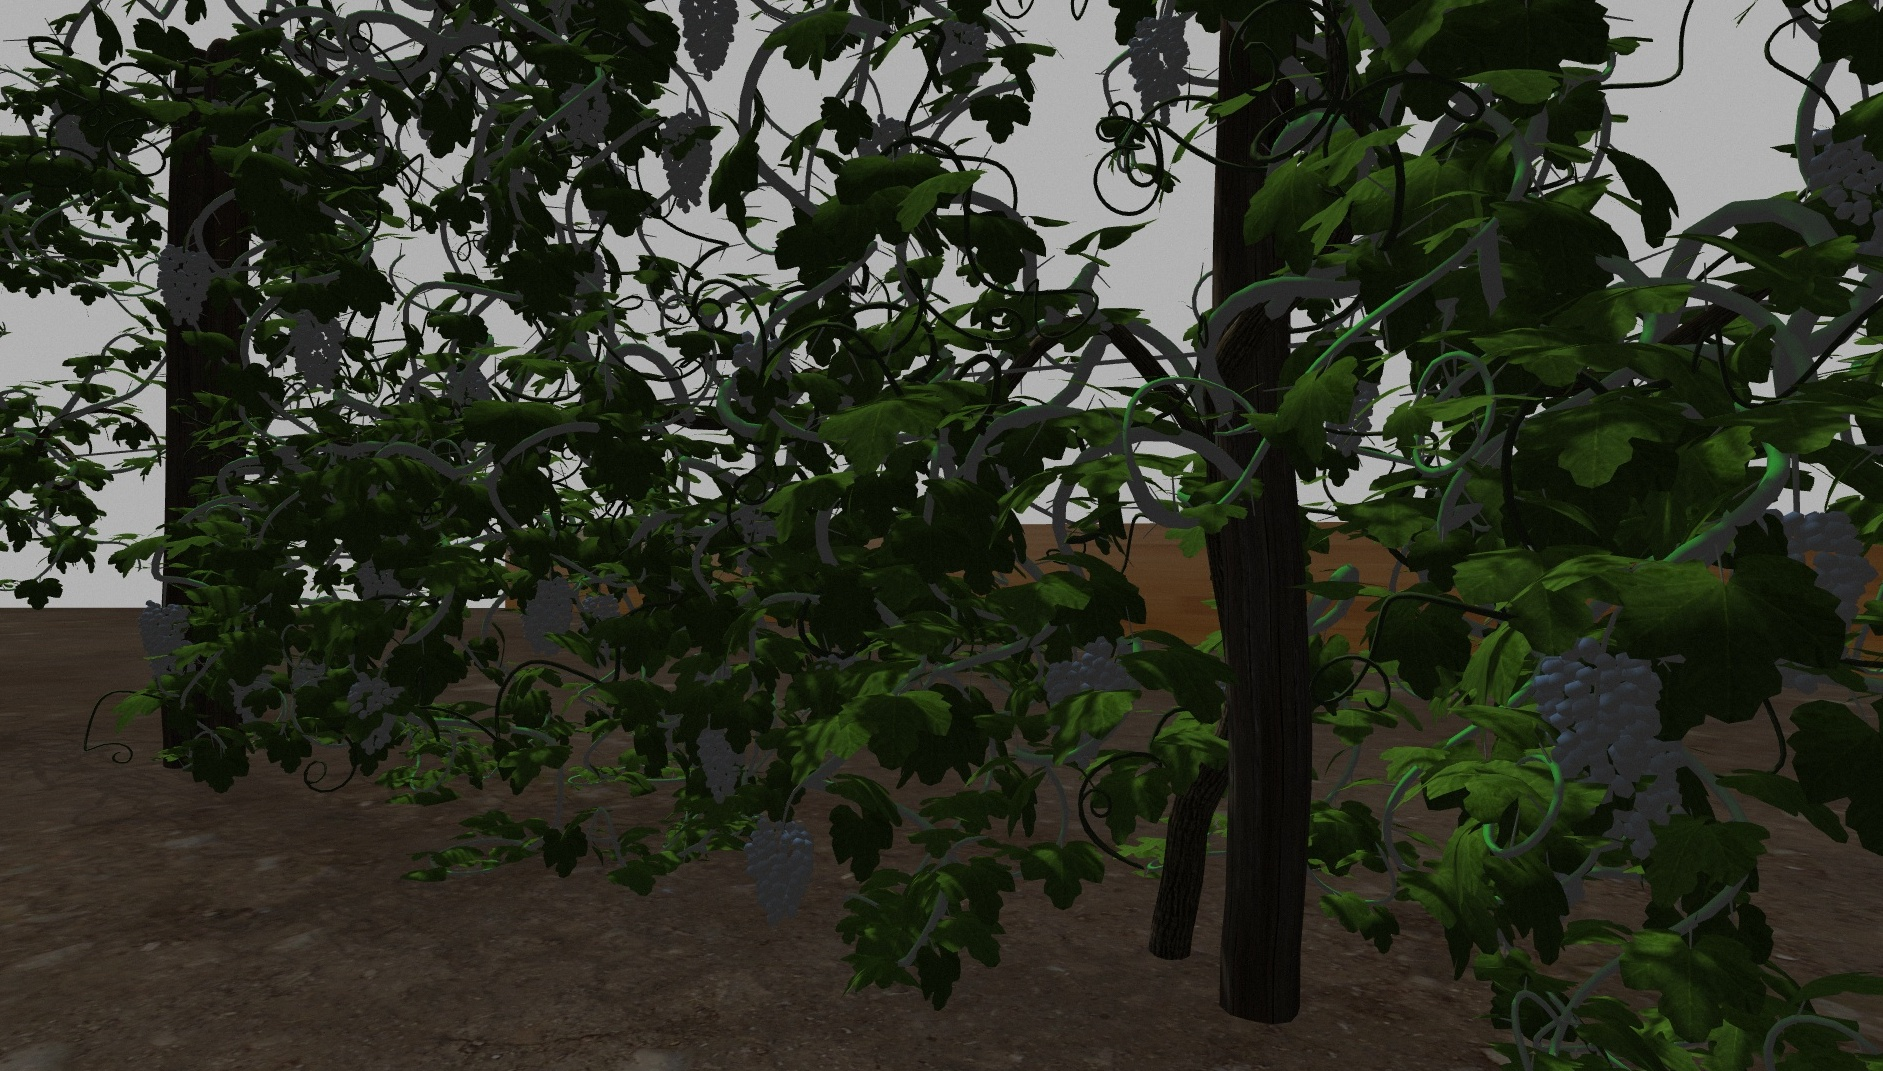grape: (1538, 635, 1617, 786), (1049, 638, 1135, 766), (1783, 508, 1877, 623), (1608, 648, 1662, 801), (1617, 741, 1683, 859), (746, 810, 813, 924), (1124, 16, 1191, 124), (1812, 135, 1880, 224), (660, 107, 714, 213), (288, 308, 347, 395), (155, 243, 213, 327), (680, 4, 740, 84), (938, 13, 989, 100), (520, 574, 574, 656), (136, 599, 191, 676), (698, 723, 748, 805), (348, 671, 396, 754), (563, 78, 612, 149)
